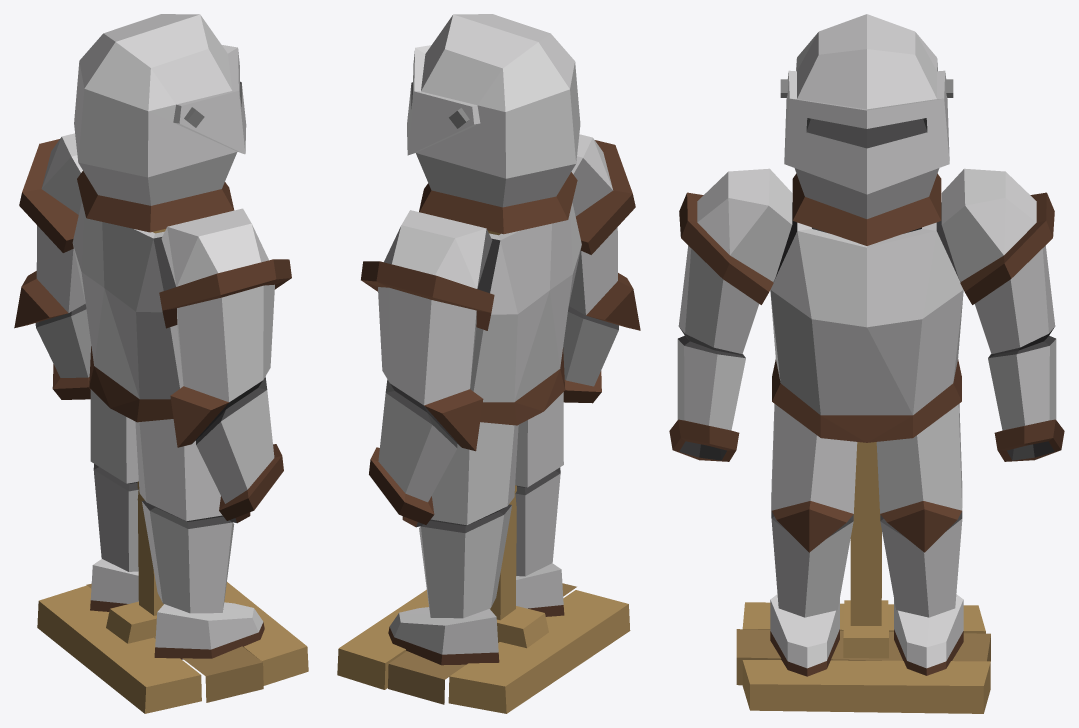
File: Armor_Stand.gltf
3 views of the same model, side by side, from view 1: azimuth 30°, elevation 25°; view 2: azimuth 150°, elevation 25°; view 3: azimuth 270°, elevation 25° (orthographic).
Parts seen in each view (by area): view 1: Armor_Stand2; view 2: Armor_Stand2; view 3: Armor_Stand2.
Part boxes in pixels (x1=…): Armor_Stand2: x1=14, y1=14, x2=308, y2=713; Armor_Stand2: x1=337, y1=14, x2=640, y2=713; Armor_Stand2: x1=669, y1=14, x2=1064, y2=713.
Size of the model in its own units: 0.1567 by 0.5237 by 0.2947.
Materials: 1 (1 with a texture image).
